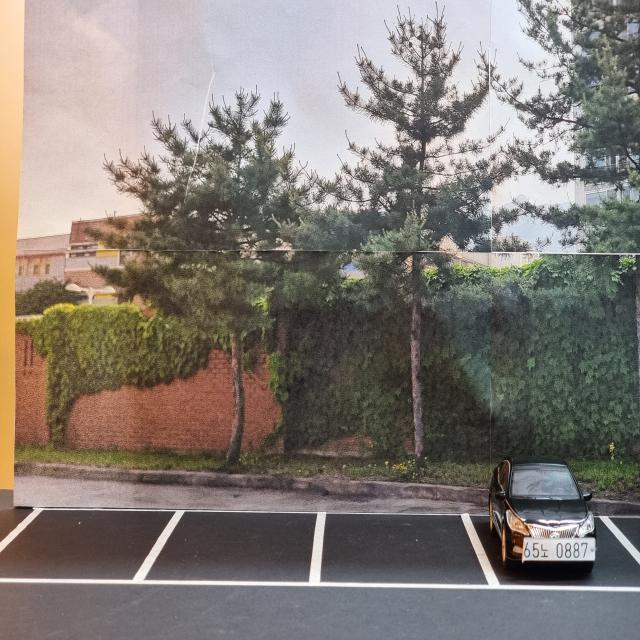empty: (309, 515, 484, 601), (176, 502, 322, 598), (11, 504, 170, 589)
occupied: (487, 457, 596, 580)
